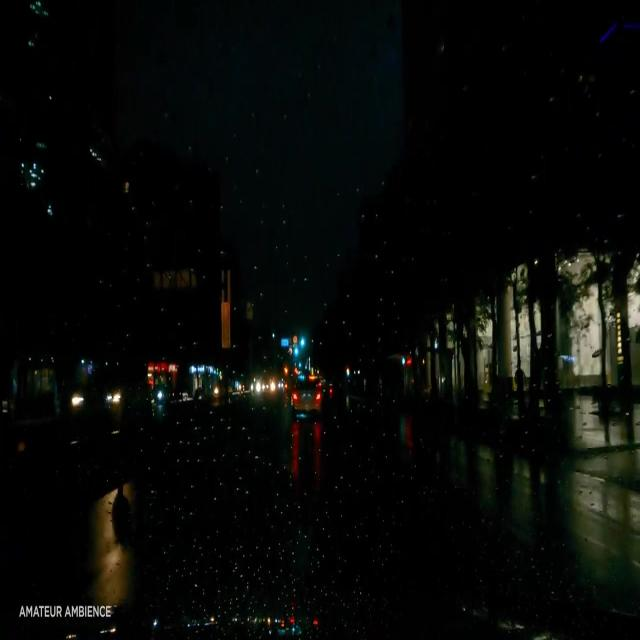Car: (289, 374, 323, 411)
